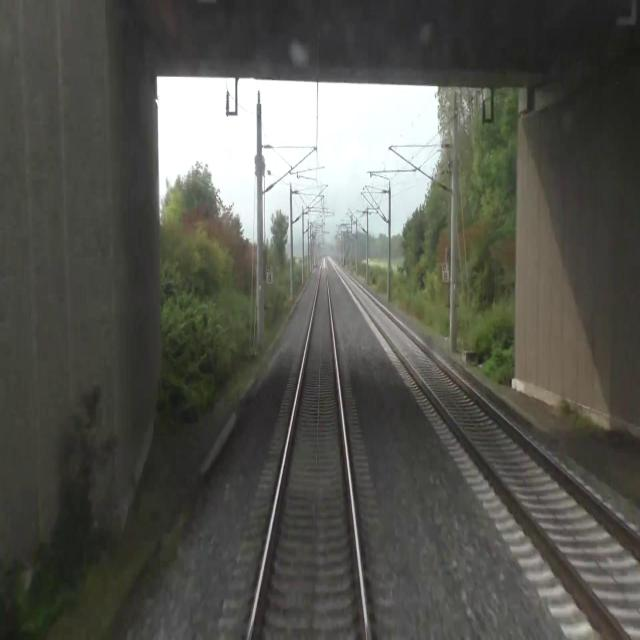rail-track: (329, 257, 640, 639), (251, 257, 365, 639)
